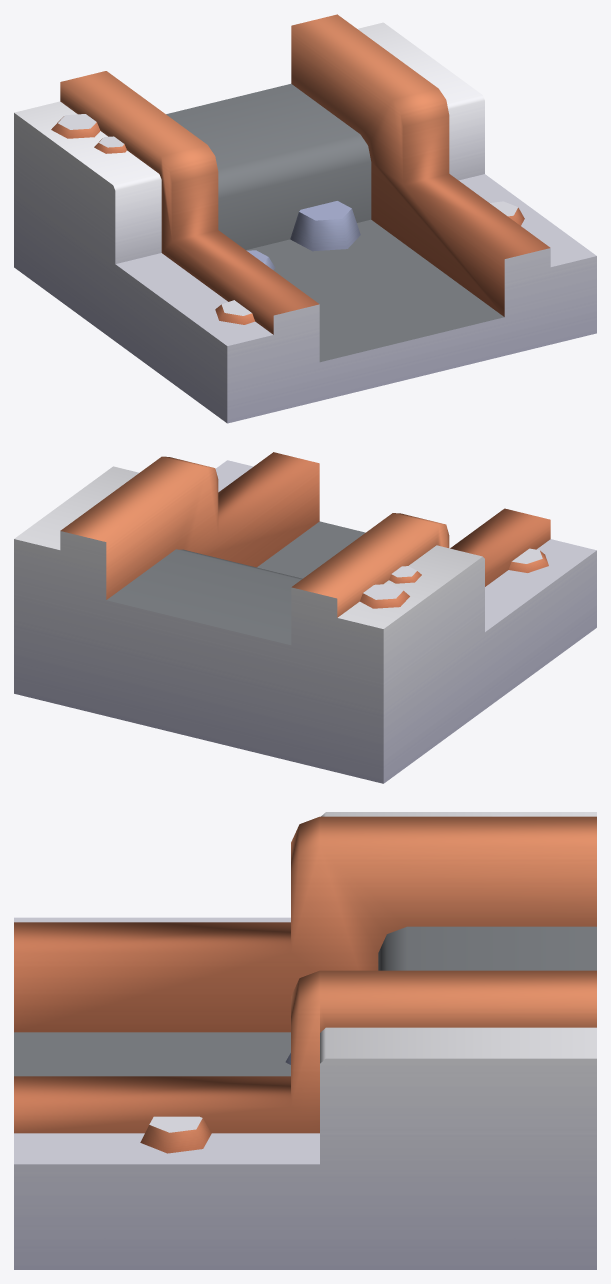
File: snow-tile-river-waterfall.fbx
3 renders of one model, top to bottom at view 1: azimuth 30°, elevation 25°; view 2: azimuth 150°, elevation 25°; view 3: azimuth 270°, elevation 25°, orthographic. The views are drawn at different scales.
Parts seen in each view (by area): view 1: snow-tile-river-waterfall; view 2: snow-tile-river-waterfall; view 3: snow-tile-river-waterfall.
Part boxes in pixels (x1,y1,x2,y2): snow-tile-river-waterfall: (14, 14, 596, 423); snow-tile-river-waterfall: (14, 452, 596, 783); snow-tile-river-waterfall: (14, 812, 596, 1269).
Size of the model in its own units: 100 by 45 by 100.
